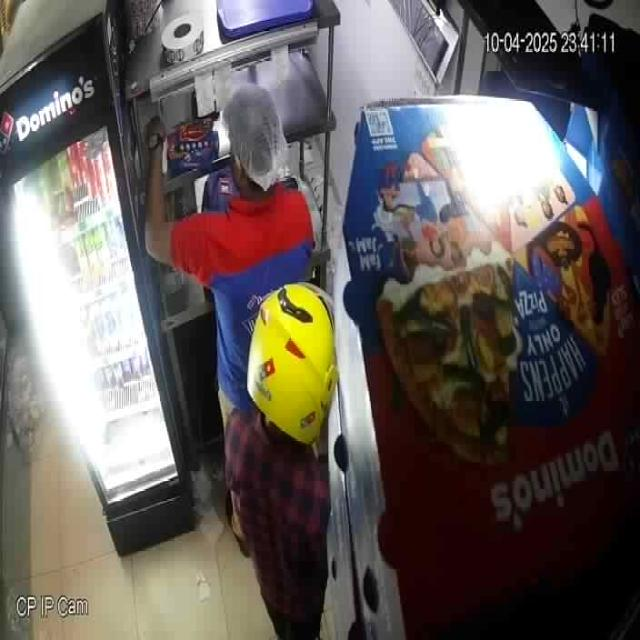helmet: (244, 282, 335, 449)
no_helmet: (221, 84, 289, 195)
